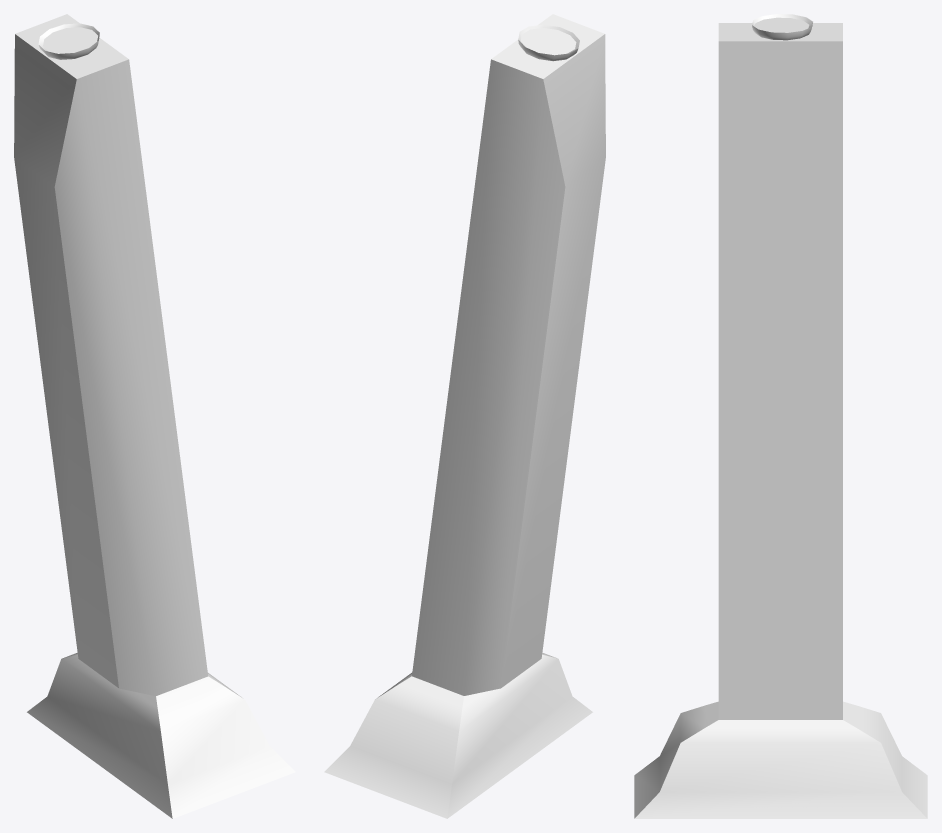
Rendered from rudder_base.obj.
3 renders of one model, left to right at view 1: azimuth 30°, elevation 25°; view 2: azimuth 150°, elevation 25°; view 3: azimuth 270°, elevation 25°, orthographic.
Visible parts, largest first — view 1: Ster_Podstawa; view 2: Ster_Podstawa; view 3: Ster_Podstawa.
Boxes of the visible parts, bbox=[...] form: Ster_Podstawa: bbox=[14, 14, 295, 818]; Ster_Podstawa: bbox=[324, 14, 605, 818]; Ster_Podstawa: bbox=[634, 14, 927, 818].
Bounding box in the file's own units: 0.4004 × 1.49 × 0.5364.
